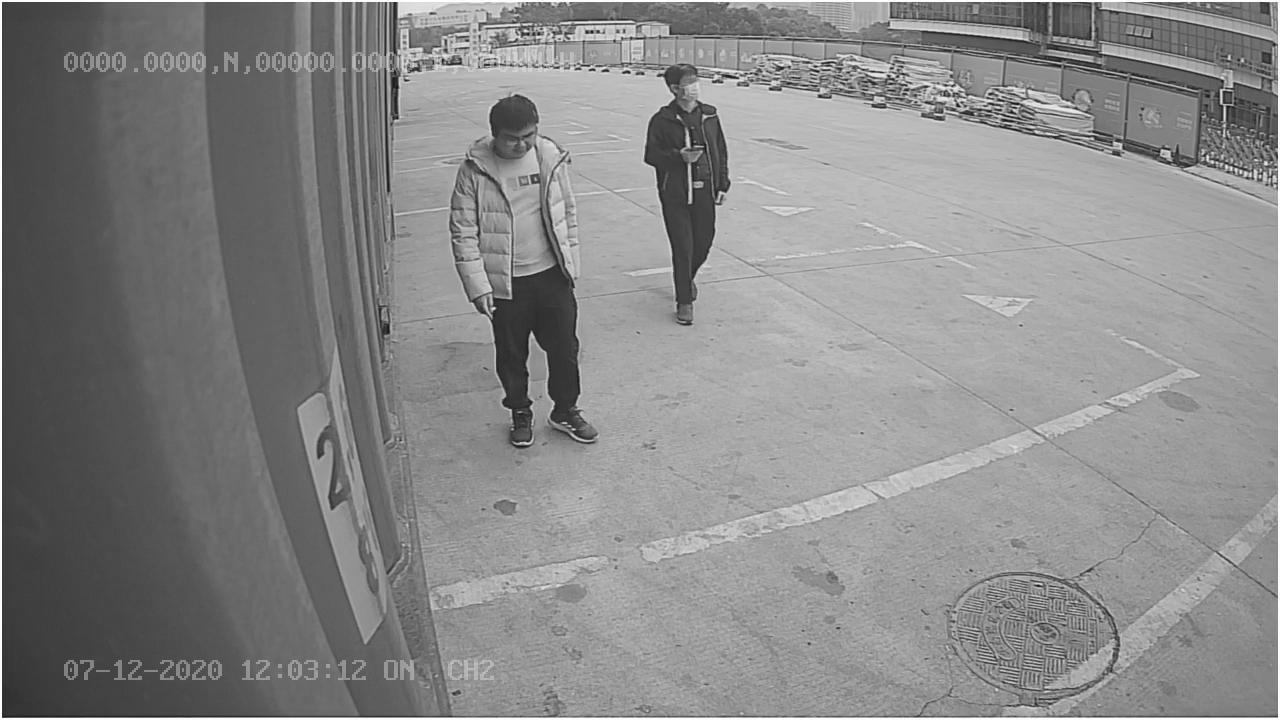person: (442, 95, 602, 448), (639, 56, 737, 326)
